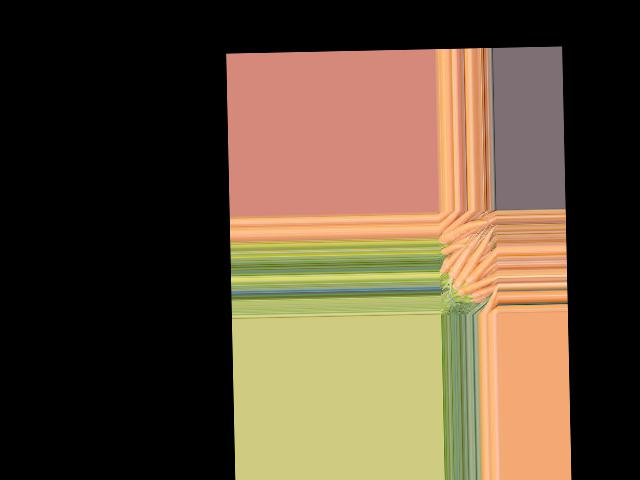carrot: (465, 247, 498, 284)
